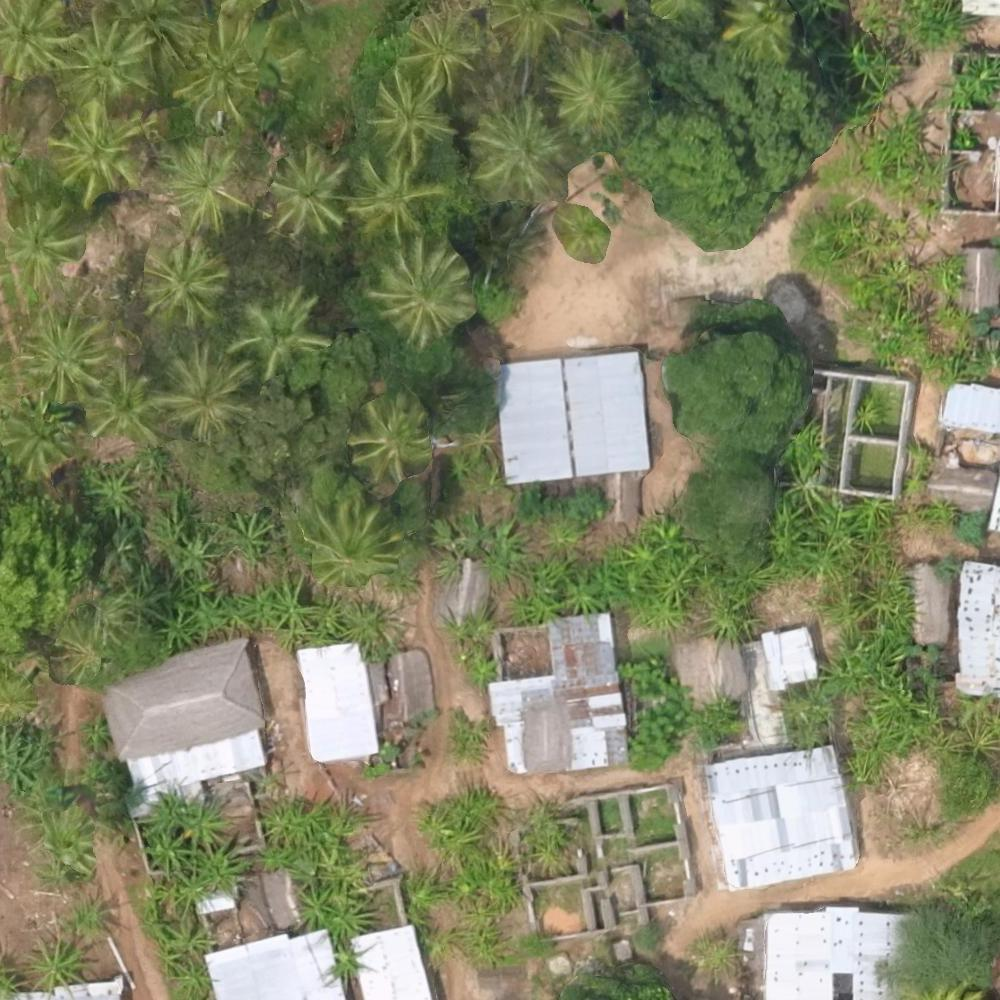Palm: (49, 105, 153, 198), (179, 22, 270, 123), (371, 245, 469, 336), (465, 107, 556, 197), (65, 16, 157, 105), (160, 139, 250, 229), (162, 345, 249, 432), (348, 155, 437, 239), (78, 365, 165, 448), (18, 315, 103, 399), (549, 55, 637, 136), (395, 13, 483, 93), (307, 500, 394, 580), (369, 69, 448, 155), (5, 194, 83, 280), (235, 288, 323, 362), (351, 398, 430, 476), (273, 148, 344, 232), (1, 3, 75, 80), (146, 244, 219, 322), (2, 399, 73, 475)
